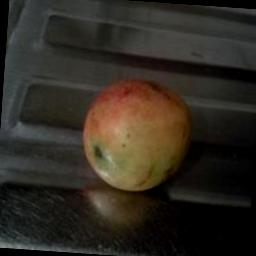Mango Unripe: (72, 71, 204, 198)
